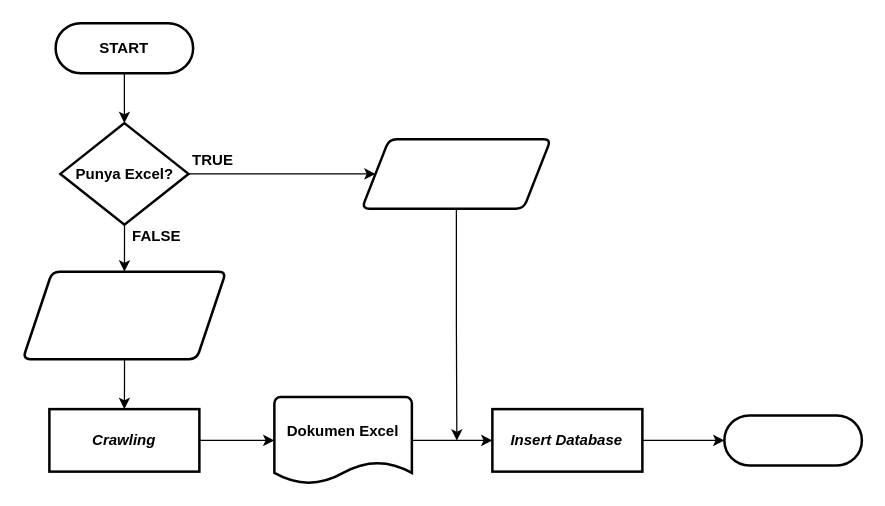
This 885x506 diagram has some shape labels left out. Here are the shapes that lost their labels. From the top down, the box of each, then its label:
(360, 137, 552, 209): Input file Excel
(21, 270, 227, 360): Masukan kata kunci, tanggal awal dan tanggal akhir
(722, 414, 862, 466): END
